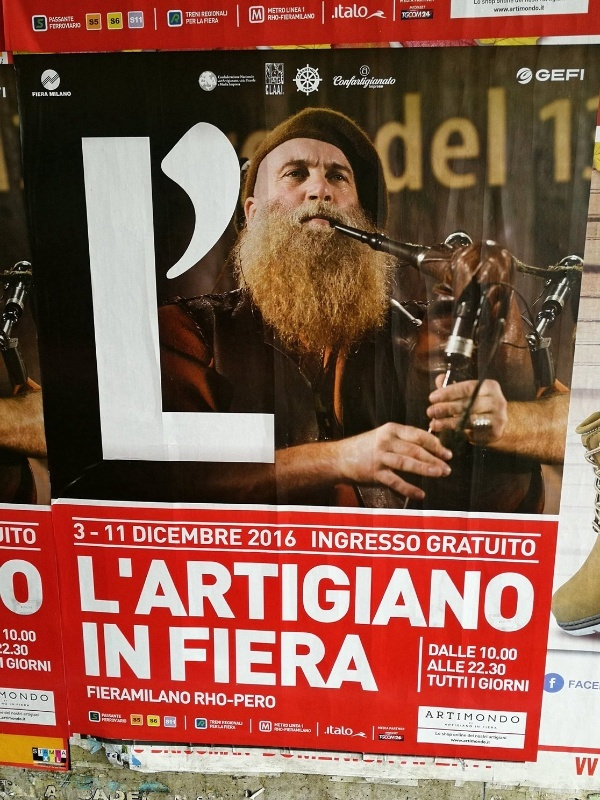text: (81, 119, 96, 470), (97, 119, 112, 470), (113, 119, 128, 470), (129, 119, 144, 470), (145, 119, 160, 470), (161, 119, 176, 470), (177, 119, 192, 470), (193, 119, 208, 470), (209, 119, 224, 470), (225, 119, 240, 470), (241, 119, 256, 470), (257, 119, 272, 470), (273, 119, 282, 470), (385, 87, 400, 198), (401, 87, 416, 198), (417, 87, 432, 198), (433, 87, 448, 198), (449, 87, 464, 198), (465, 87, 480, 198), (481, 87, 496, 198), (545, 98, 560, 184), (81, 555, 96, 638), (97, 555, 112, 638), (113, 555, 128, 638), (129, 555, 144, 638), (145, 555, 160, 638), (161, 555, 176, 638), (177, 555, 192, 638), (193, 555, 208, 638), (209, 555, 224, 638), (225, 555, 240, 638), (241, 555, 256, 638), (257, 555, 272, 638), (273, 555, 288, 638), (289, 555, 304, 638), (305, 555, 320, 638), (321, 555, 336, 638), (337, 555, 352, 638), (353, 555, 368, 638), (369, 555, 384, 638), (385, 555, 400, 638), (401, 555, 416, 638), (417, 555, 432, 638), (433, 555, 448, 638), (449, 555, 464, 638), (465, 555, 480, 638), (481, 555, 496, 638), (497, 555, 512, 638), (513, 555, 528, 638), (497, 87, 507, 198), (177, 625, 192, 697), (193, 625, 208, 697), (209, 625, 224, 697), (225, 625, 240, 697), (241, 625, 256, 697), (257, 625, 272, 697), (273, 625, 288, 697), (289, 625, 304, 697), (305, 625, 320, 697), (321, 625, 336, 697), (337, 625, 352, 697), (353, 625, 368, 697), (561, 98, 572, 184), (369, 625, 382, 697), (1, 557, 16, 618), (17, 557, 32, 618), (97, 622, 112, 681), (113, 622, 128, 681), (129, 622, 144, 681), (529, 555, 539, 638), (82, 622, 96, 681), (33, 557, 44, 618), (169, 625, 176, 697), (145, 622, 153, 681), (539, 98, 544, 184), (433, 534, 448, 557), (449, 534, 464, 557), (465, 534, 480, 557), (481, 534, 496, 557), (497, 534, 512, 557), (513, 534, 528, 557), (76, 555, 80, 638), (145, 525, 160, 547), (161, 525, 176, 547), (177, 525, 192, 547), (193, 525, 208, 547), (209, 525, 224, 547), (225, 525, 240, 547), (321, 531, 336, 553), (337, 531, 352, 553), (353, 531, 368, 553), (369, 531, 384, 553), (385, 531, 400, 553), (401, 531, 416, 553), (1, 525, 16, 544), (577, 758, 592, 777), (17, 527, 32, 545), (257, 530, 272, 548), (273, 530, 288, 548), (97, 687, 112, 705), (113, 687, 128, 705), (129, 687, 144, 705), (145, 687, 160, 705), (161, 687, 176, 705), (209, 692, 224, 710), (225, 692, 240, 710), (241, 692, 256, 710), (257, 692, 272, 710), (17, 627, 32, 644), (17, 657, 32, 674), (33, 657, 48, 674), (133, 525, 144, 547), (353, 4, 369, 19), (337, 74, 352, 90), (353, 74, 368, 90), (369, 74, 384, 90), (513, 677, 529, 692), (177, 687, 190, 705), (195, 692, 208, 710), (337, 4, 352, 19), (433, 644, 448, 659), (449, 644, 464, 659), (481, 646, 496, 661), (497, 646, 512, 661), (433, 659, 448, 674), (449, 659, 464, 674), (481, 677, 496, 692), (497, 677, 512, 692), (481, 661, 496, 676), (385, 726, 400, 741), (382, 87, 384, 198), (3, 627, 16, 644), (116, 524, 128, 542), (433, 675, 448, 689), (449, 675, 464, 689), (307, 64, 320, 80), (5, 527, 16, 545), (545, 69, 560, 82), (561, 69, 576, 82), (433, 711, 448, 724), (449, 711, 464, 724), (465, 711, 480, 724), (481, 711, 496, 724), (497, 711, 512, 724), (385, 74, 397, 90), (529, 534, 537, 557), (225, 75, 240, 87), (241, 75, 256, 87), (1, 643, 16, 655), (1, 657, 16, 669), (1, 711, 16, 723), (17, 711, 32, 723), (312, 531, 320, 553), (465, 644, 476, 659), (469, 661, 480, 676), (113, 713, 128, 724), (225, 719, 240, 730), (337, 725, 352, 736), (87, 687, 96, 705), (210, 719, 224, 730), (7, 657, 16, 674), (577, 680, 592, 690), (289, 723, 304, 733), (104, 524, 112, 542), (248, 530, 256, 548), (497, 661, 506, 676), (273, 84, 284, 96), (17, 643, 28, 655), (275, 723, 288, 733), (529, 5, 545, 13), (289, 530, 296, 548), (2, 699, 16, 708), (497, 5, 512, 13), (513, 5, 528, 13), (550, 677, 560, 689), (449, 732, 464, 740), (465, 732, 480, 740), (481, 732, 496, 740), (73, 523, 80, 540), (17, 699, 30, 708), (471, 676, 480, 689), (427, 534, 432, 557), (593, 758, 599, 777), (65, 23, 81, 30), (402, 11, 416, 19), (417, 11, 431, 19), (296, 66, 304, 80), (481, 723, 497, 730), (102, 713, 112, 724), (33, 711, 42, 723), (209, 10, 224, 17), (273, 13, 288, 20), (289, 13, 304, 20), (449, 723, 464, 730), (465, 723, 480, 730), (33, 749, 48, 756), (49, 749, 64, 756), (536, 69, 544, 82), (577, 69, 585, 82), (435, 732, 448, 740), (38, 19, 48, 29), (327, 725, 336, 736), (50, 23, 64, 30), (130, 17, 144, 24), (513, 711, 520, 724), (49, 17, 64, 23), (378, 726, 384, 741), (273, 7, 285, 14), (497, 732, 507, 740), (305, 723, 313, 733), (289, 7, 302, 13), (49, 756, 60, 763), (33, 92, 48, 97), (49, 92, 64, 97), (513, 646, 518, 661), (465, 740, 480, 745), (266, 84, 272, 96), (218, 75, 224, 87), (33, 527, 37, 545), (427, 675, 432, 689), (569, 680, 576, 690), (262, 724, 272, 731), (81, 523, 85, 540), (33, 627, 37, 644), (197, 18, 208, 24), (417, 531, 420, 553), (305, 13, 314, 20), (369, 85, 384, 89), (593, 680, 599, 690), (452, 740, 464, 745), (166, 719, 176, 725), (401, 726, 405, 741), (482, 1, 496, 5), (65, 17, 74, 23), (209, 18, 218, 24), (273, 692, 276, 710), (428, 711, 432, 724), (49, 657, 52, 674), (257, 10, 262, 20), (134, 717, 144, 722), (113, 18, 120, 25), (201, 10, 208, 17), (193, 12, 201, 18), (497, 1, 512, 4), (481, 740, 490, 745), (151, 718, 160, 723), (241, 719, 245, 730), (90, 19, 96, 26), (185, 12, 192, 18), (465, 675, 468, 689), (201, 720, 208, 726), (177, 14, 181, 24), (363, 67, 368, 75), (305, 87, 313, 92), (186, 19, 192, 25), (417, 6, 426, 10), (253, 10, 256, 20), (401, 1, 416, 3), (417, 1, 432, 3), (529, 1, 544, 3), (65, 92, 71, 97), (430, 644, 432, 659), (268, 7, 272, 14), (268, 13, 272, 20), (305, 66, 307, 80), (44, 756, 48, 763), (515, 1, 528, 3), (204, 18, 208, 24), (410, 6, 416, 10), (474, 1, 480, 5), (90, 531, 96, 535), (241, 525, 242, 547), (445, 723, 448, 730), (193, 19, 196, 25), (335, 74, 336, 90), (465, 659, 466, 674), (479, 677, 480, 692), (97, 19, 99, 26), (225, 10, 227, 17), (286, 7, 288, 13), (302, 7, 304, 13), (545, 1, 551, 3), (94, 714, 96, 720), (353, 725, 354, 736), (175, 14, 176, 24), (495, 5, 496, 13), (111, 18, 112, 25), (65, 749, 66, 756), (525, 1, 528, 3), (97, 714, 98, 720), (303, 87, 304, 92), (97, 531, 98, 535), (513, 1, 514, 4), (433, 1, 434, 3)
